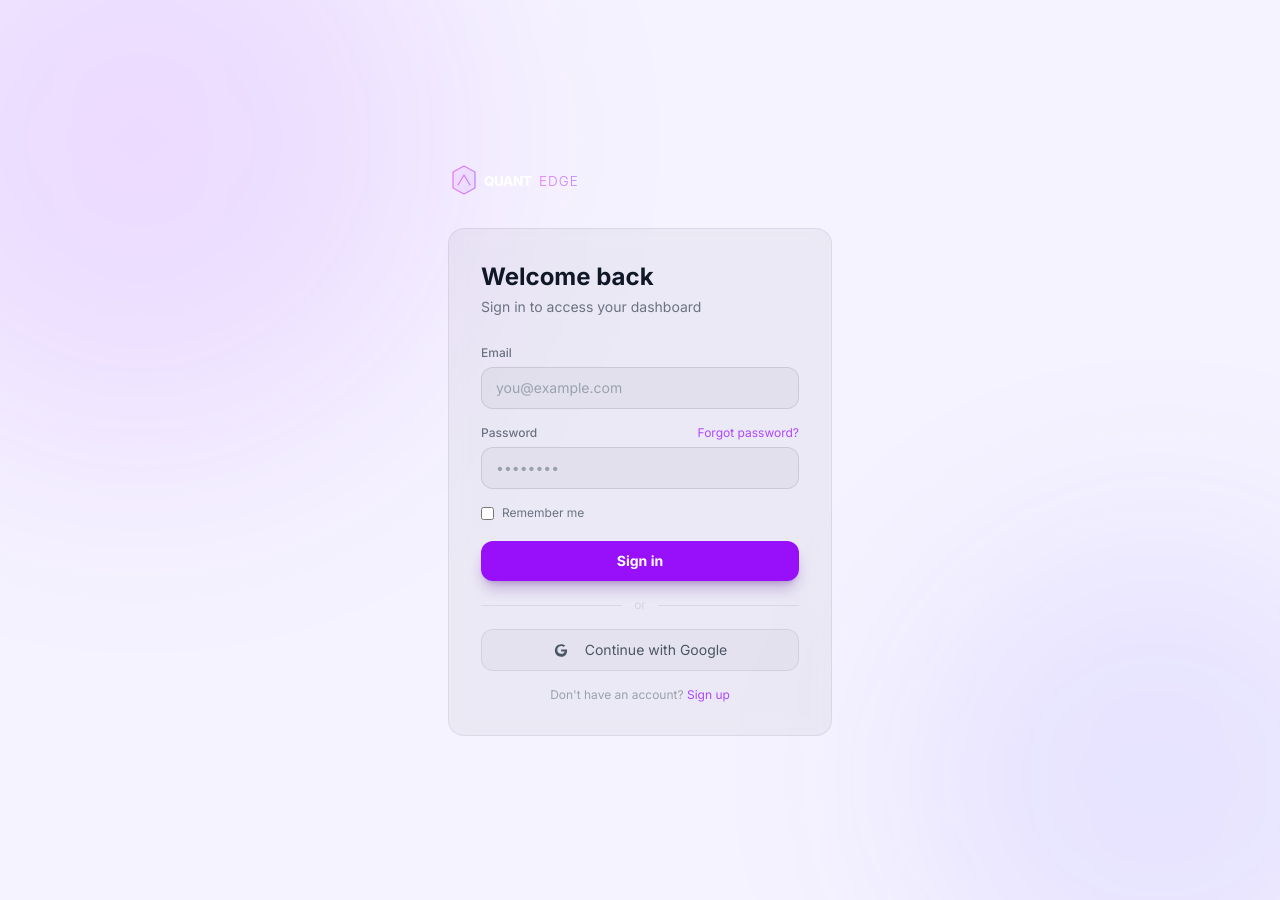
Test: Login — form submission › shows error message on failed login
In the field labelled "Email": x=640, y=388 [481,367,799,409], type "wrong@test.com"
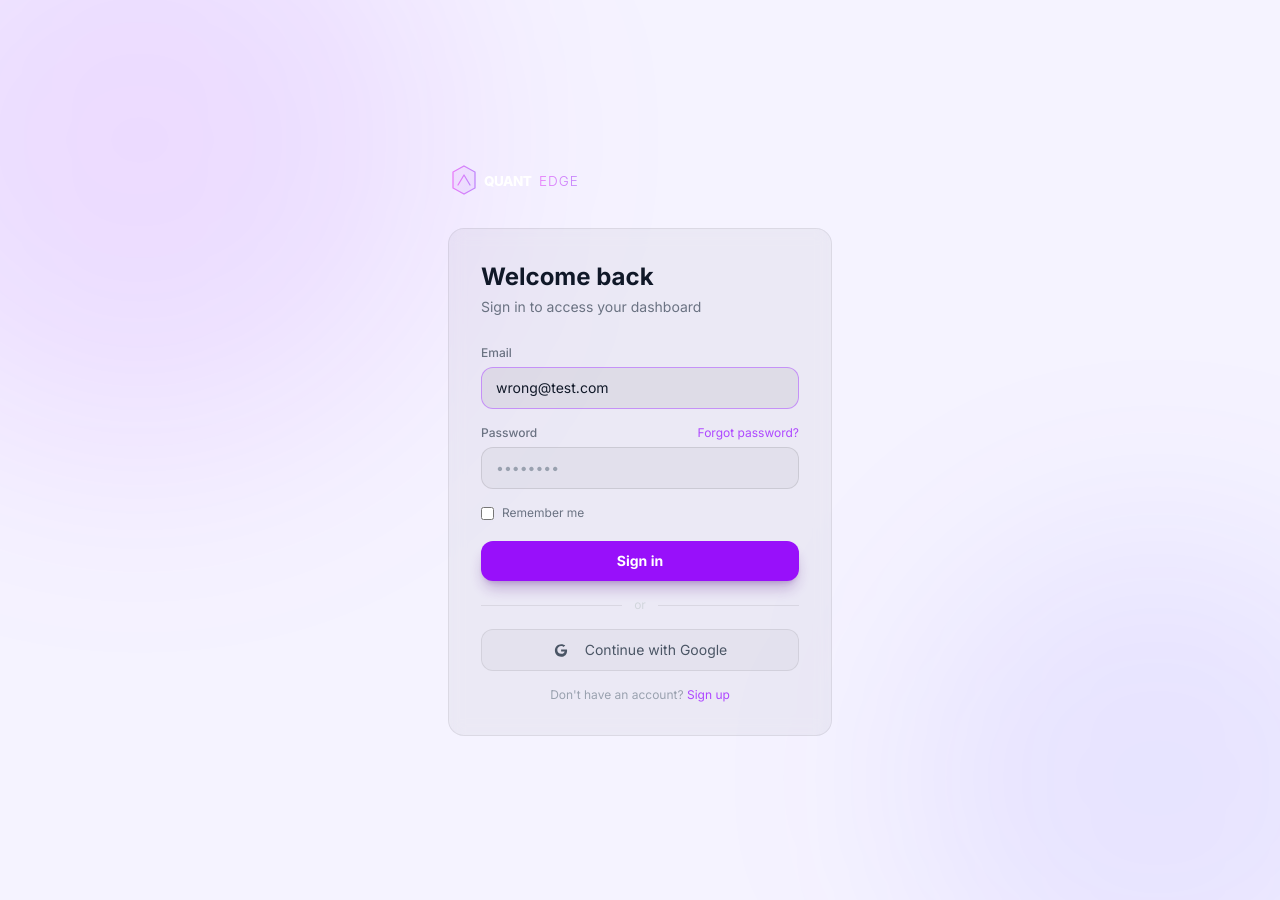
In the password field labelled "Password": x=640, y=468 [481,447,799,489], type "wrongpass"
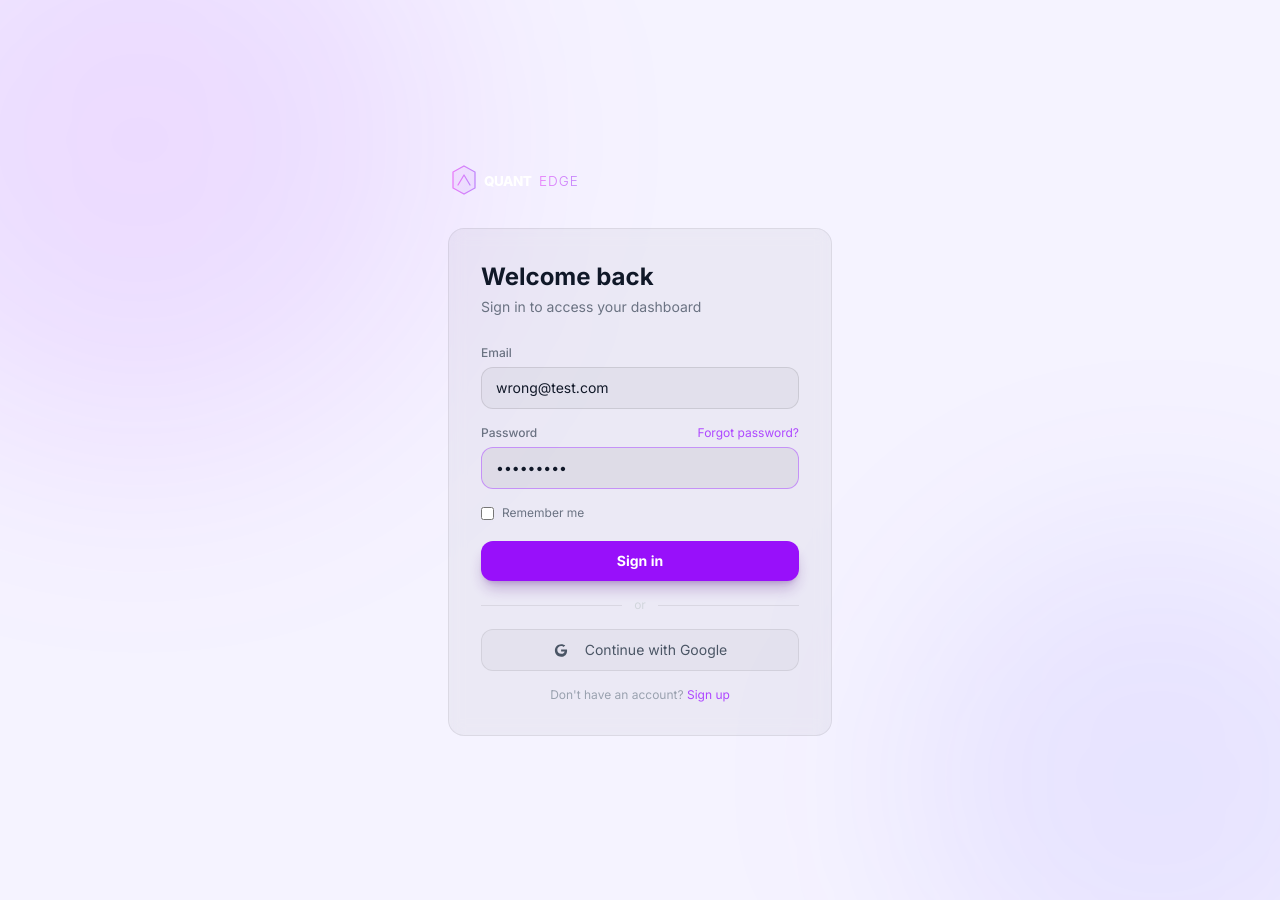
Click the button "Sign in": x=640, y=561 [481,541,799,581]
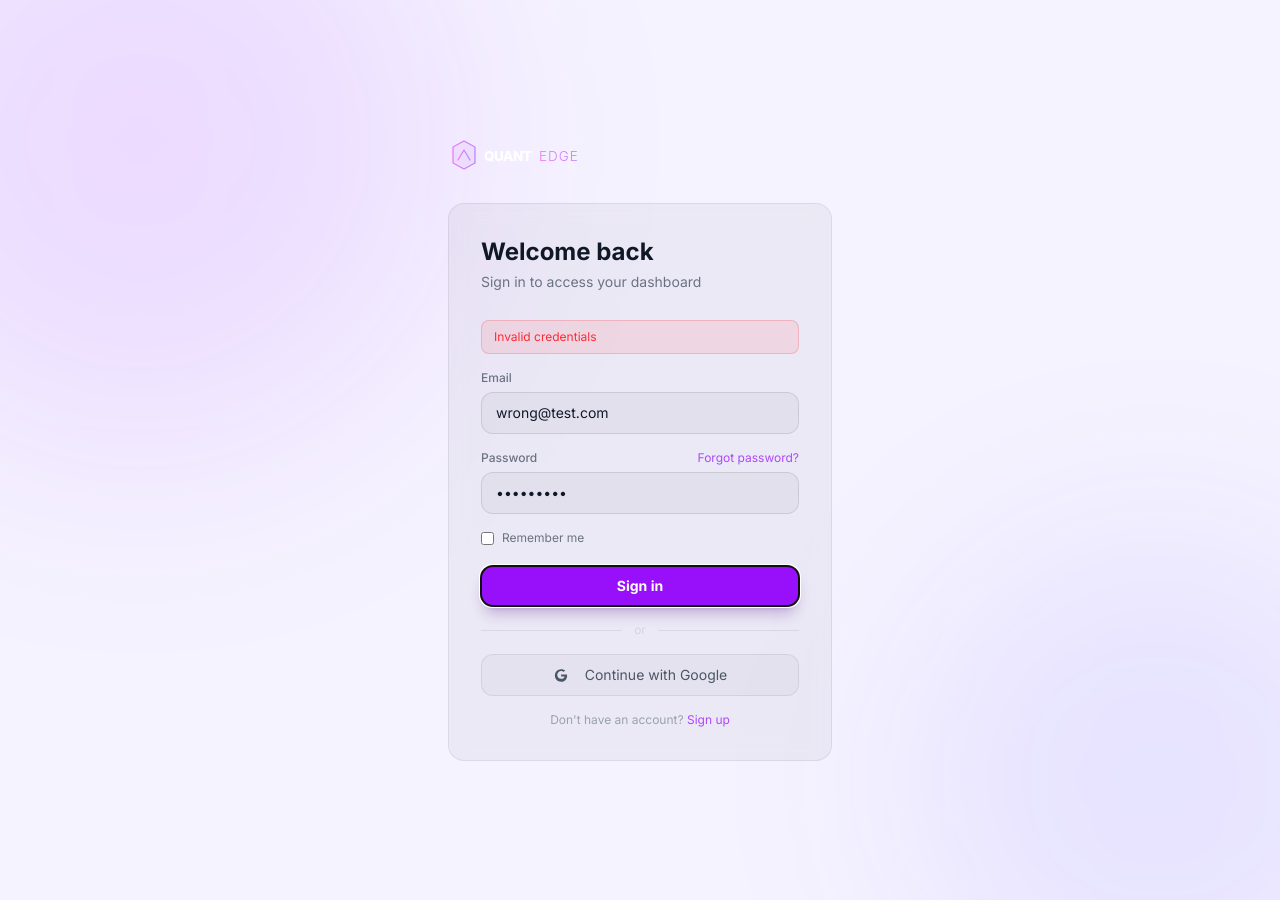
Expected: the text "Invalid credentials" is shown, [481,320,799,354]
